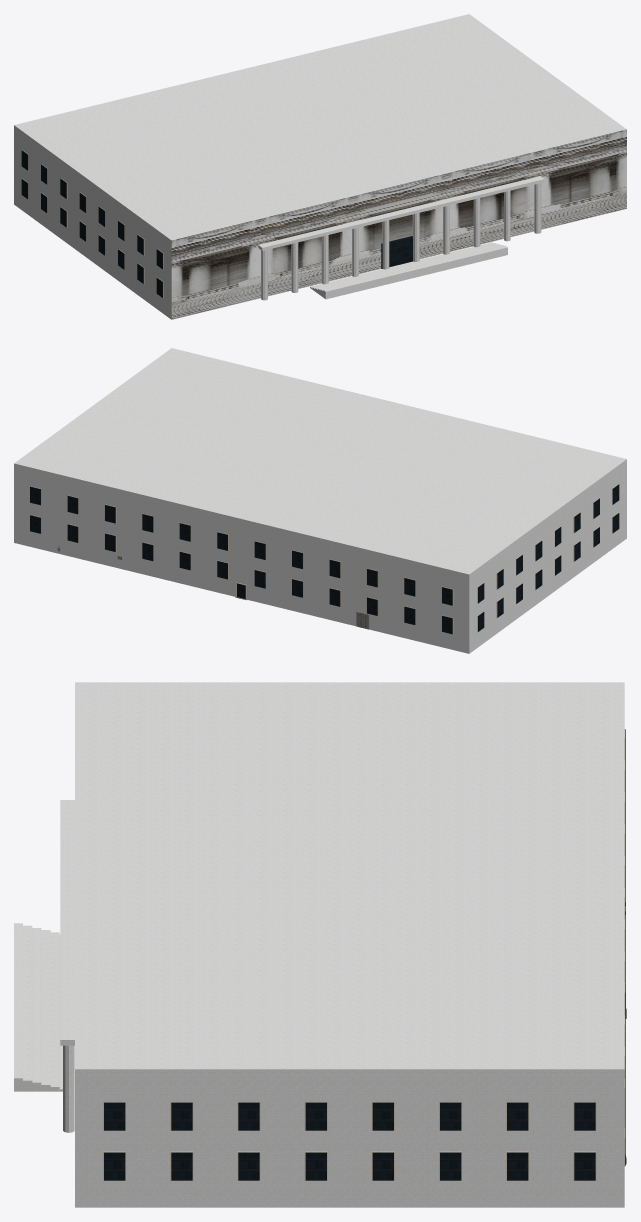
Rendered from museum-of-art_lod0.gltf.
3 renders of one model, top to bottom at view 1: azimuth 30°, elevation 25°; view 2: azimuth 150°, elevation 25°; view 3: azimuth 270°, elevation 25°, orthographic. The views are drawn at different scales.
Visible parts, largest first — view 1: museum-of-art_main, museum-of-art_front, museum-of-art_colonnade, museum-of-art_stairs, museum-of-art_fen_07-glass-curtain-blue_1_t, museum-of-art__entry_doors, museum-of-art_fen_04-limestone_0; view 2: museum-of-art_main, museum-of-art_fen_07-glass-curtain-blue_1_t, museum-of-art_fen_04-limestone_0; view 3: museum-of-art_main, museum-of-art_fen_07-glass-curtain-blue_1_t, museum-of-art_stairs, museum-of-art_colonnade, museum-of-art_fen_04-limestone_0.
Boxes of the visible parts, <box> form: museum-of-art_main: <box>14,14,626,319</box>; museum-of-art_front: <box>171,129,626,319</box>; museum-of-art_colonnade: <box>258,176,544,300</box>; museum-of-art_stairs: <box>310,242,507,299</box>; museum-of-art_fen_07-glass-curtain-blue_1_t: <box>21,150,162,297</box>; museum-of-art__entry_doors: <box>381,236,412,268</box>; museum-of-art_fen_04-limestone_0: <box>21,150,163,298</box>; museum-of-art_main: <box>14,348,626,653</box>; museum-of-art_fen_07-glass-curtain-blue_1_t: <box>30,484,619,634</box>; museum-of-art_fen_04-limestone_0: <box>30,484,619,634</box>; museum-of-art_main: <box>75,682,624,1207</box>; museum-of-art_fen_07-glass-curtain-blue_1_t: <box>104,729,625,1180</box>; museum-of-art_stairs: <box>14,923,62,1091</box>; museum-of-art_colonnade: <box>60,800,74,1132</box>; museum-of-art_fen_04-limestone_0: <box>103,729,625,1180</box>.
Size of the model in its own units: 150 by 25.02 by 100.
